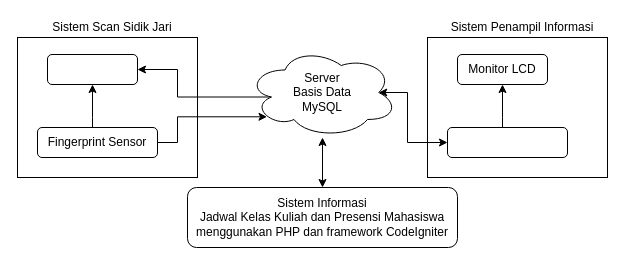
The diagram is 625 pixels wide and 265 high, and some of its shapes have lost their labels. Here are the shapes that lost their labels. From the top down, the box of each, then its label:
(46, 54, 138, 84): Node MCU
(446, 126, 568, 158): Raspberry Pi
